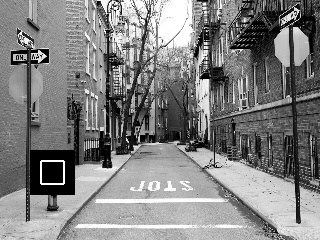square: (31, 150, 75, 194)
